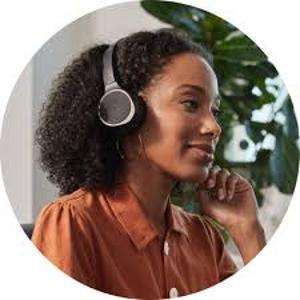Headphones: (94, 29, 184, 129)
